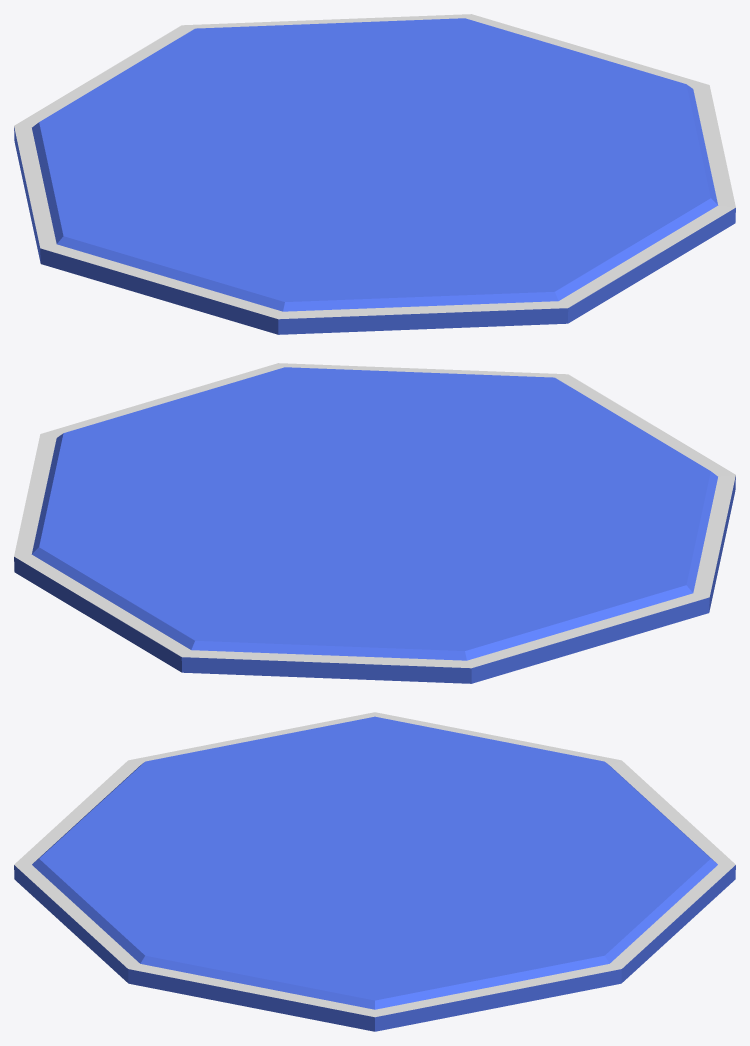
File: casillas 1.fbx
3 renders of one model, top to bottom at view 1: azimuth 30°, elevation 25°; view 2: azimuth 150°, elevation 25°; view 3: azimuth 270°, elevation 25°, orthographic. The views are drawn at different scales.
Parts seen in each view (by area): view 1: Plane; view 2: Plane; view 3: Plane.
Boxes of the visible parts, box(x1,y1,x2,y2) form: Plane: box(14, 14, 735, 334); Plane: box(14, 363, 735, 683); Plane: box(14, 712, 735, 1031).
Size of the model in its own units: 324 by 10.32 by 324.
